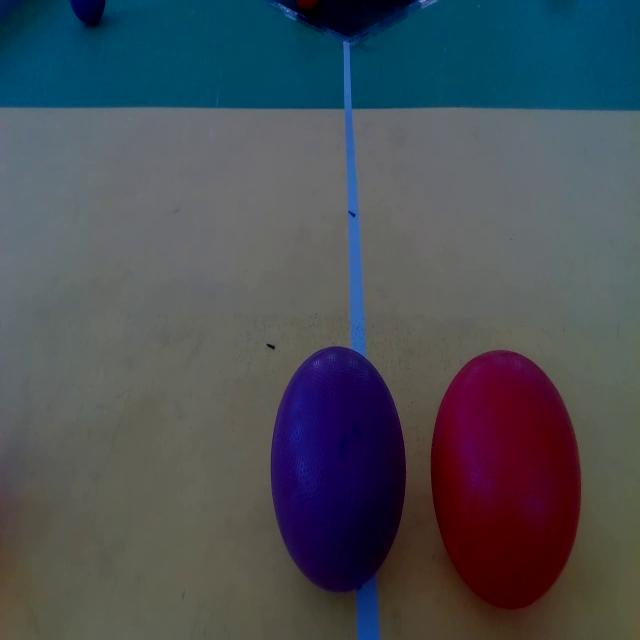red: (430, 350, 583, 606)
